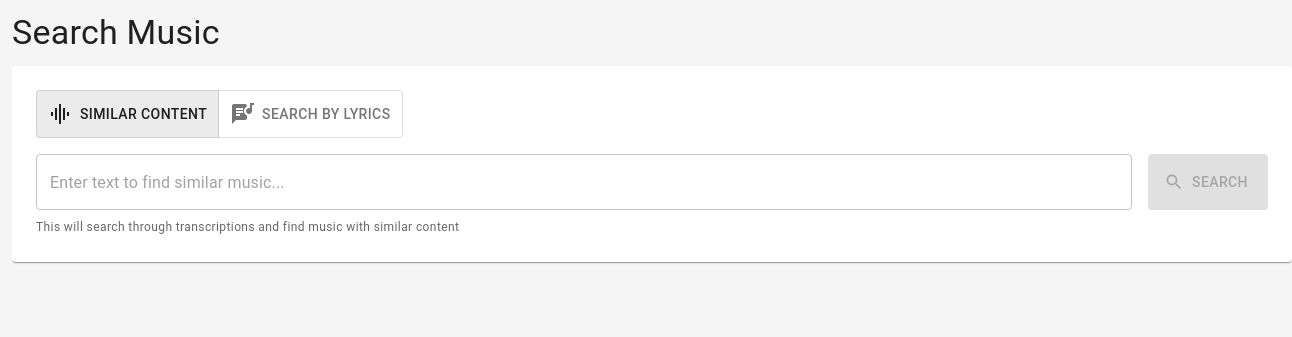
SearchPage Component › handles search error
The width and height of the screenshot is (1292, 337).
Type "test" into the field with placeholder "Enter text to find similar music...".
click(584, 182); type("test")  # box [36,154,1132,210]
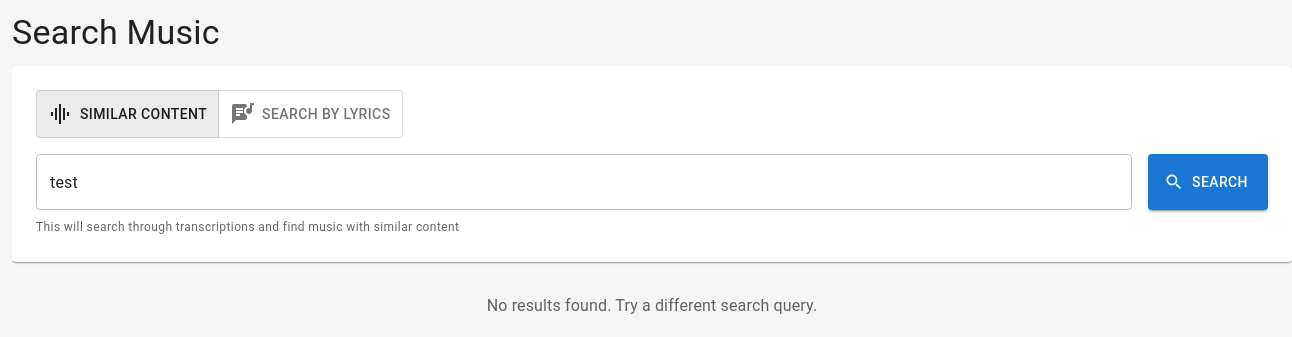
Click the button "Search".
click(1208, 182)  # box [1148,154,1268,210]
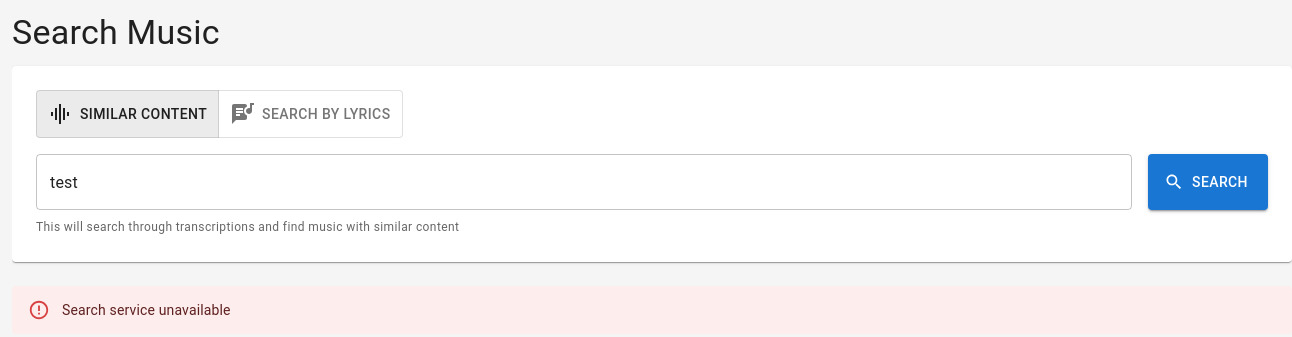
Result: the text "Search service unavailable" is shown at [62,302,231,318]
